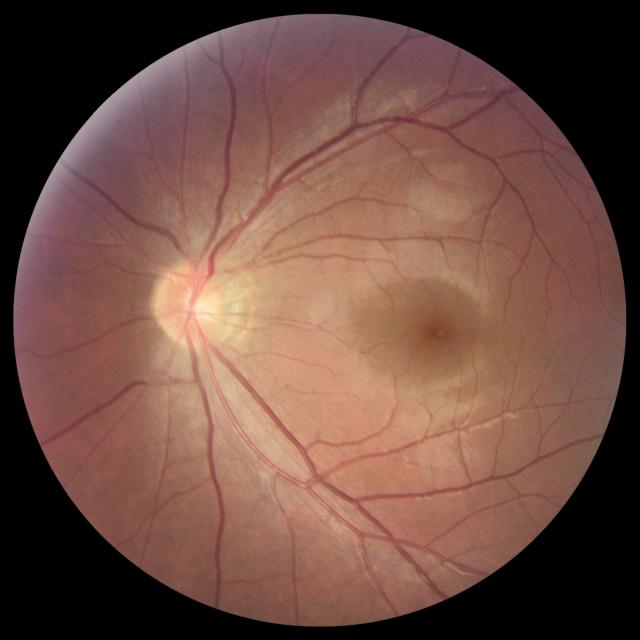OC: (182, 289, 213, 323)
OD: (151, 258, 226, 348)
